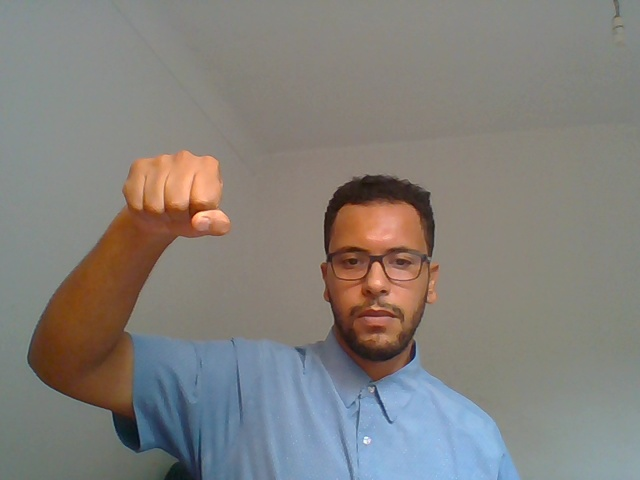yes: (92, 111, 247, 311)
